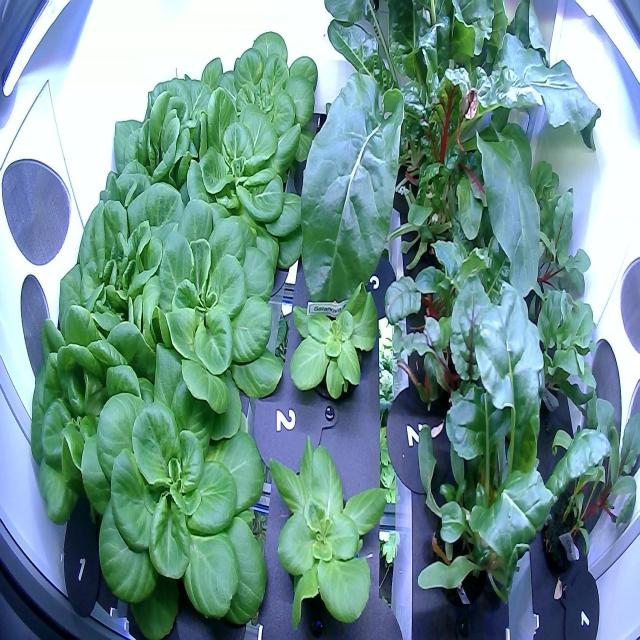Ready: (22, 300, 173, 536), (50, 156, 212, 372), (98, 53, 226, 221)
young: (79, 338, 272, 636), (131, 187, 288, 445), (262, 426, 396, 632), (176, 86, 309, 279), (200, 23, 320, 167), (279, 270, 384, 416)
